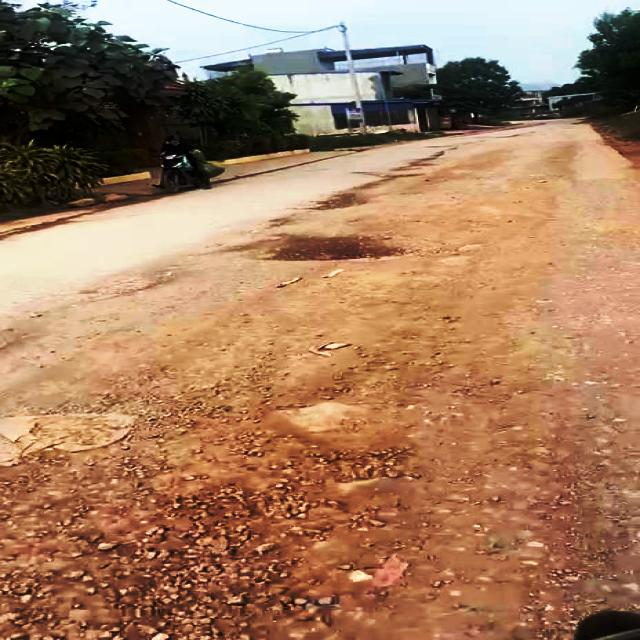pothole: (415, 182, 559, 256), (248, 226, 420, 264), (308, 190, 372, 212)
